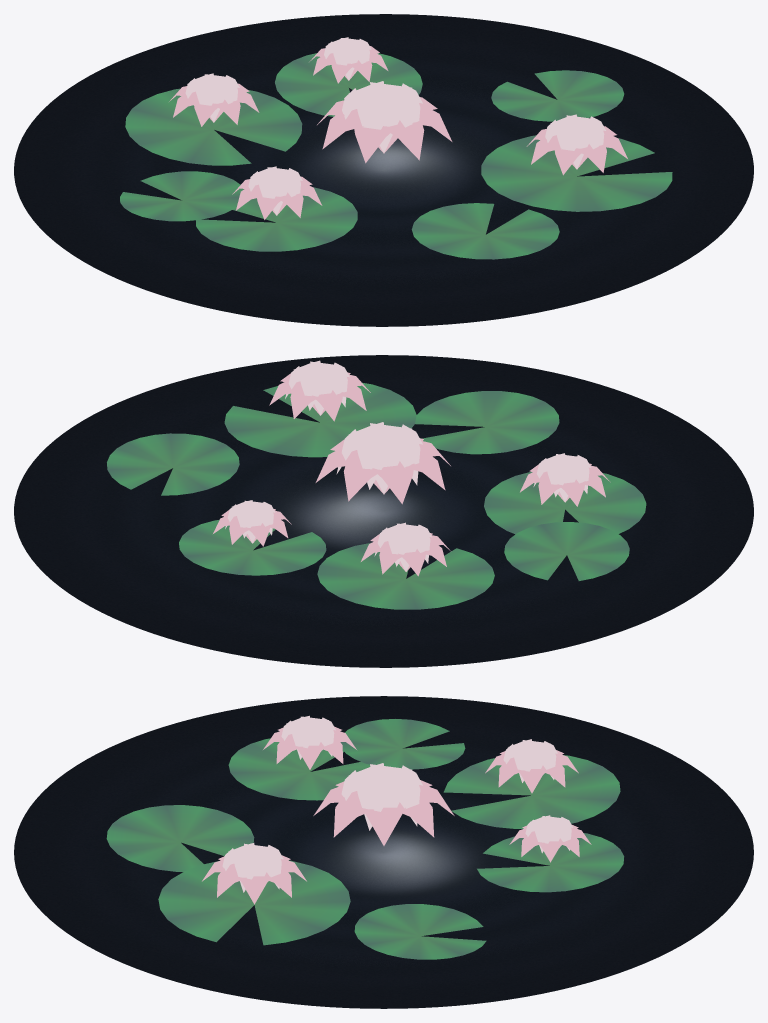
Rendered from lianchi.glb.
The picture shows the model from 3 angles, top to bottom: view 1: azimuth 30°, elevation 25°; view 2: azimuth 150°, elevation 25°; view 3: azimuth 270°, elevation 25°; orthographic projection.
Visible parts, largest first — view 1: night-water, lotus; view 2: night-water, lotus; view 3: night-water, lotus.
Boxes of the visible parts, x1,y1,x2,y2 form: night-water: (14,14,753,326); lotus: (120,37,672,259); night-water: (14,355,753,667); lotus: (107,360,646,609); night-water: (14,696,753,1008); lotus: (106,715,624,959).
Size of the model in its own units: 2 by 0.2353 by 2.
Materials: 2 (1 with a texture image).
